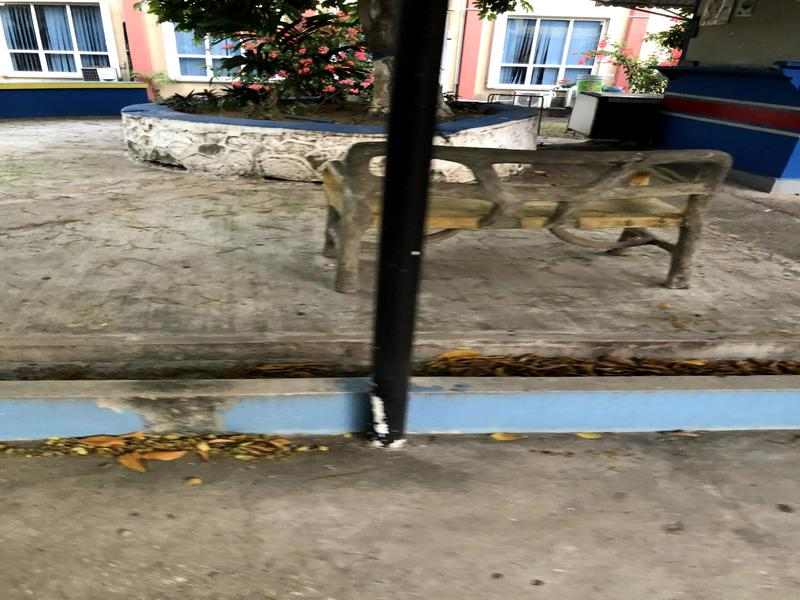18.0050864_-76.7496363_bench: (289, 133, 732, 305)
